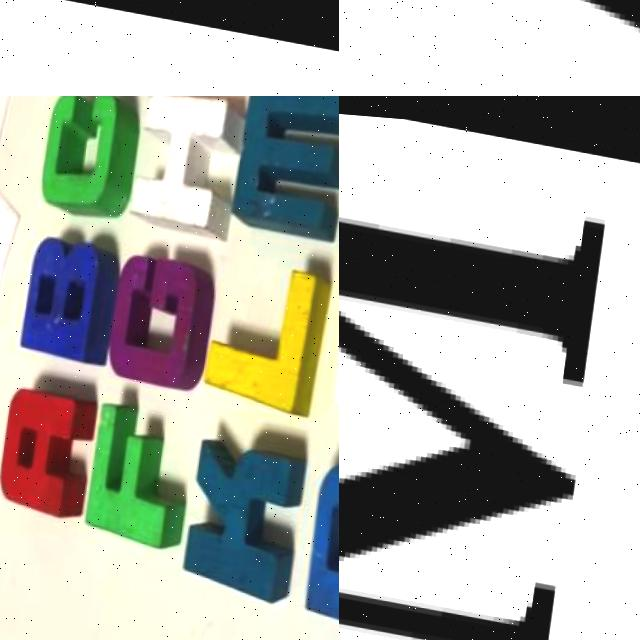A: (0, 372, 94, 524)
B: (21, 227, 122, 365)
C: (39, 96, 139, 211)
F: (86, 397, 186, 543)
G: (108, 237, 217, 386)
H: (130, 96, 244, 237)
K: (183, 430, 311, 593)
L: (378, 0, 640, 96), (202, 251, 336, 406)
M: (339, 137, 622, 640), (230, 96, 339, 227)
P: (306, 455, 339, 626)
